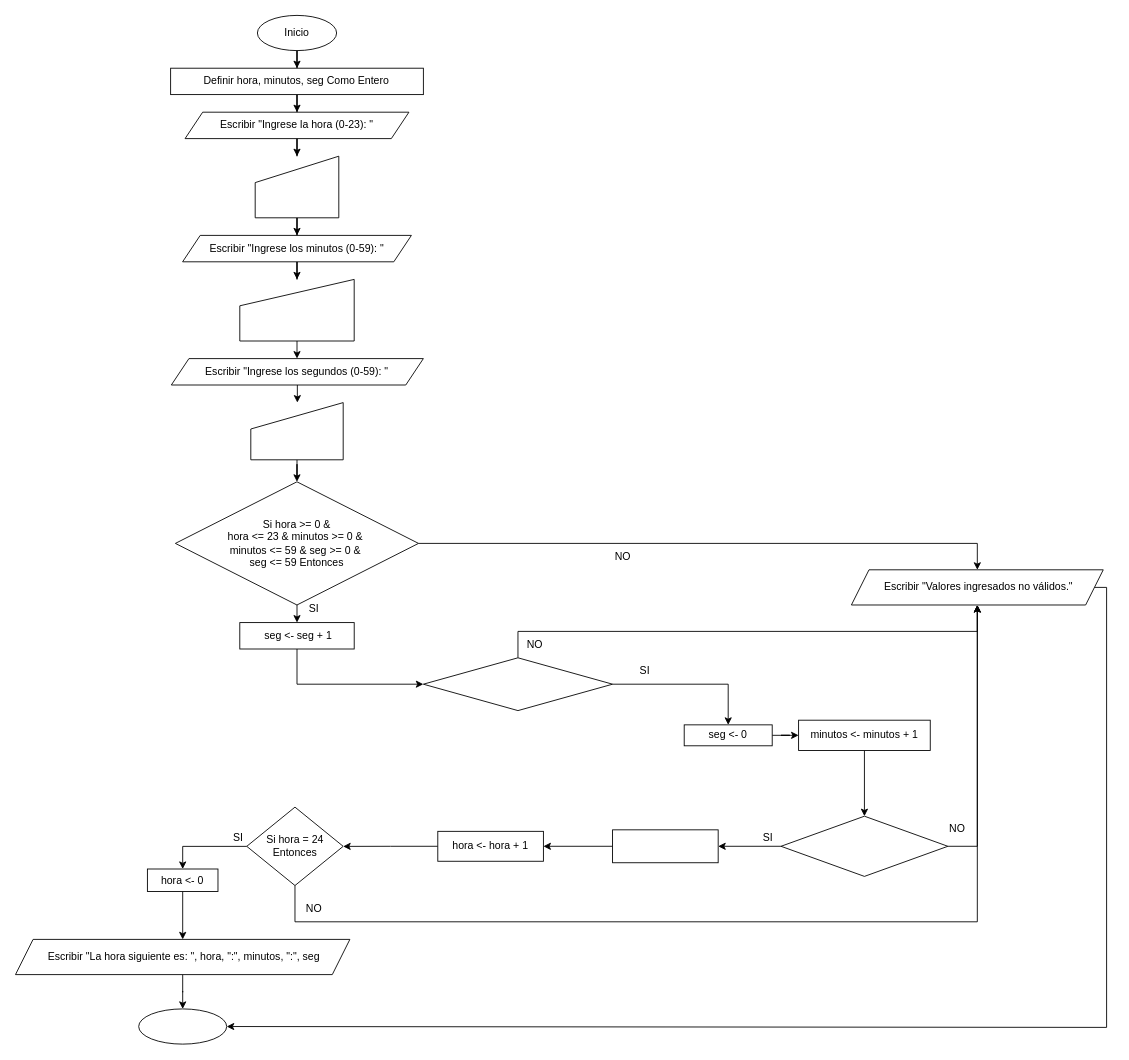
This 1129x1060 diagram has some shape labels left out. Each missing label, with the centre of its shape:
"Fin" goes at point 182,1026.
"Leer hora" goes at point 296,186.
"Leer minutos" goes at point 296,310.
"Leer seg" goes at point 296,431.
"minutos <- 0" goes at point 665,846.
"Si minutos = 60 Entonces" goes at point 864,845.
"Si seg = 60 Entonces" goes at point 517,684.
